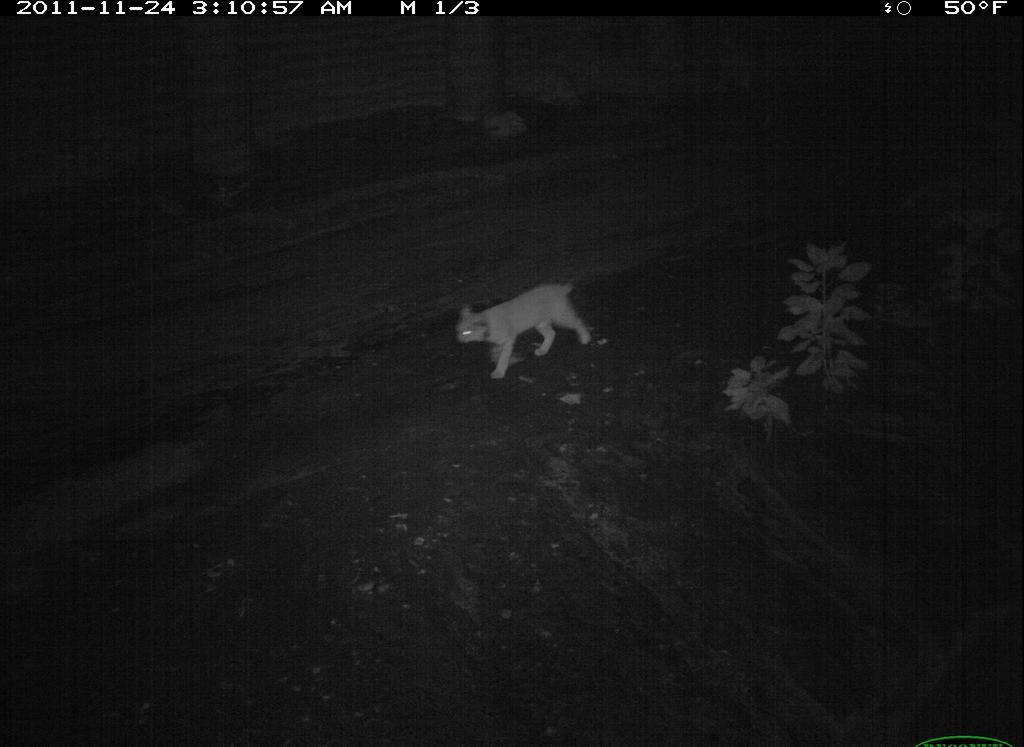bobcat: (447, 272, 603, 387)
